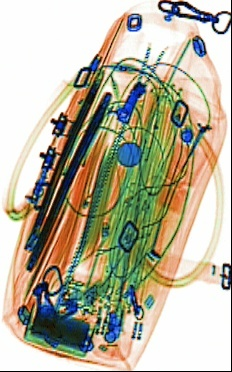powerbank: (21, 299, 98, 357)
